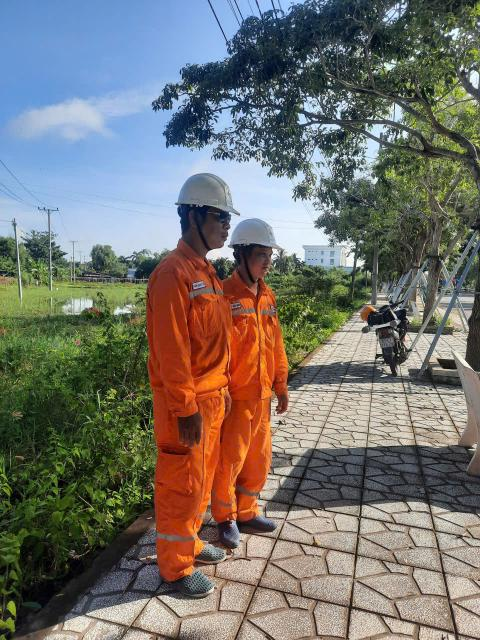helmet: (168, 163, 249, 227), (224, 212, 292, 253)
shoes: (164, 556, 223, 600), (184, 530, 233, 569), (236, 507, 292, 540), (218, 505, 245, 554)
